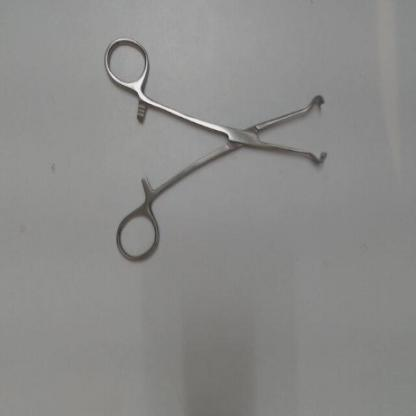Babcock Tissue Forceps: (96, 31, 330, 270)
